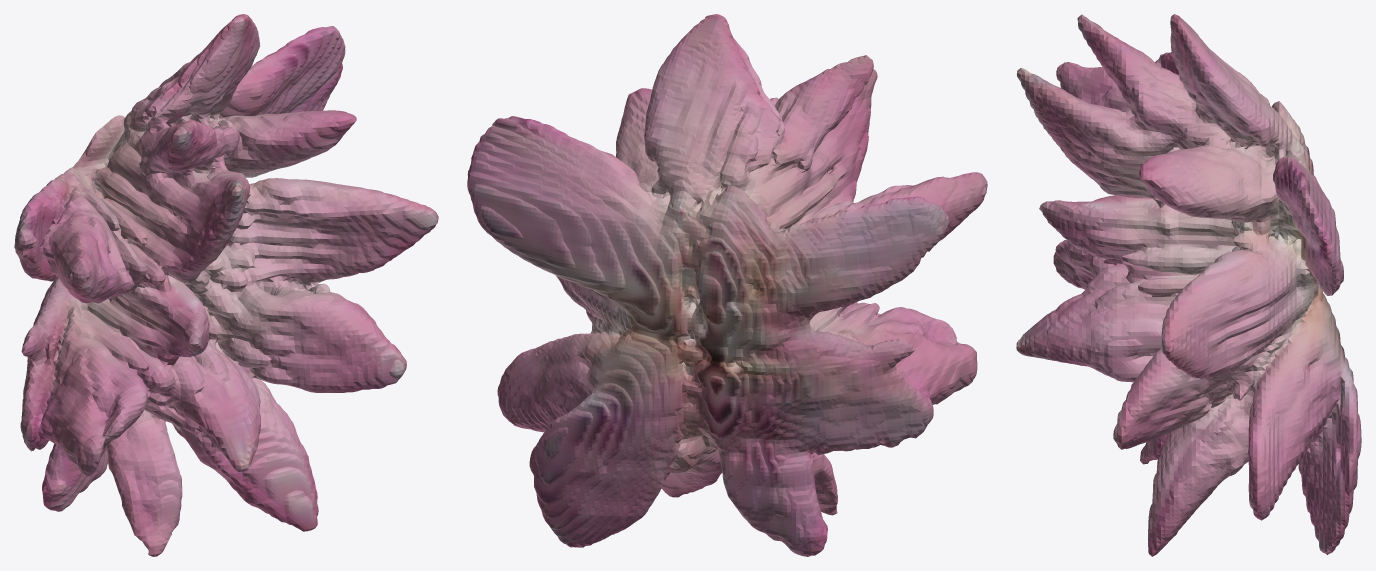
Rendered from lotus.glb.
The picture shows the model from 3 angles, left to right: view 1: azimuth 30°, elevation 25°; view 2: azimuth 150°, elevation 25°; view 3: azimuth 270°, elevation 25°; orthographic projection. The views are drawn at different scales.
Visible parts, largest first — view 1: world; view 2: world; view 3: world.
Boxes of the visible parts, x1=… form: world: x1=14, y1=14, x2=438, y2=556; world: x1=467, y1=14, x2=987, y2=556; world: x1=1016, y1=14, x2=1361, y2=556.
Bounding box in the file's own units: 0.7528 × 0.8789 × 0.5373.
